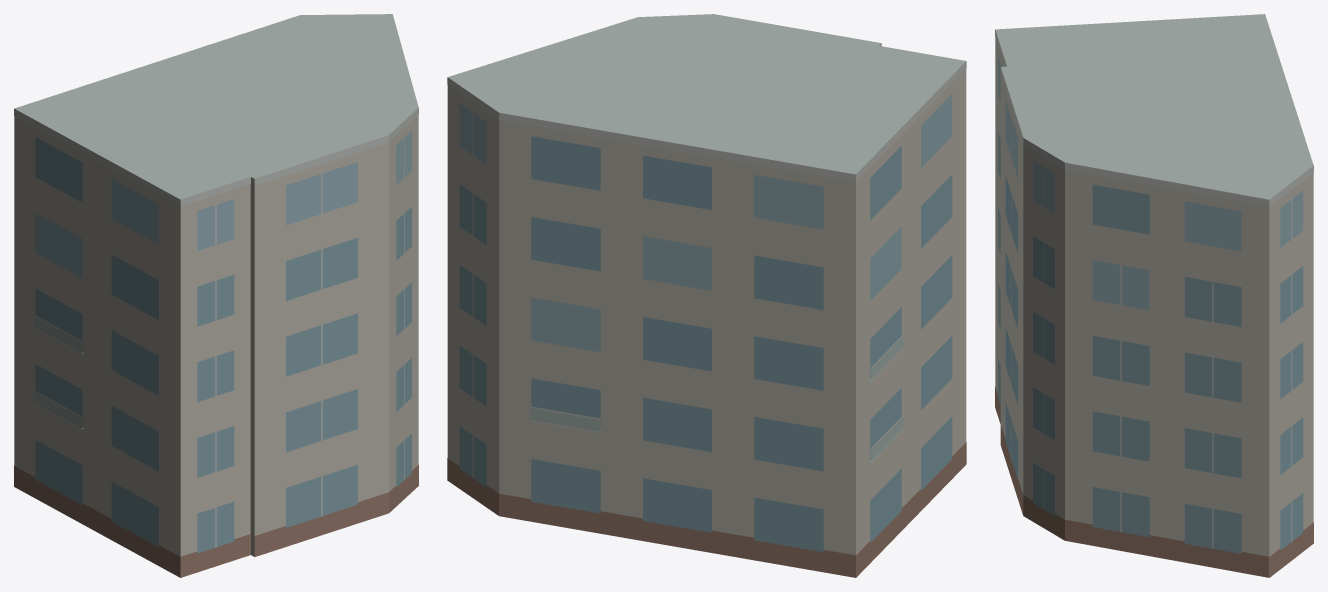
Rendered from survey-upis-33014935.glb.
The picture shows the model from 3 angles, left to right: view 1: azimuth 30°, elevation 25°; view 2: azimuth 150°, elevation 25°; view 3: azimuth 270°, elevation 25°; orthographic projection. The views are drawn at different scales.
Parts seen in each view (by area): view 1: survey-upis-33014935.tmp; view 2: survey-upis-33014935.tmp; view 3: survey-upis-33014935.tmp.
Part boxes in pixels (left/top/right/bottom): survey-upis-33014935.tmp: left=14, top=14, right=418, bottom=577; survey-upis-33014935.tmp: left=447, top=14, right=966, bottom=577; survey-upis-33014935.tmp: left=995, top=14, right=1313, bottom=577.
Bounding box in the file's own units: 13.6 × 12.9 × 9.86.
